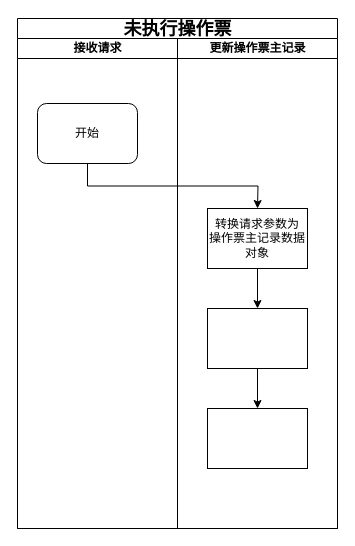
Image size: 355x546. Some labels were removed from this diagram. Each missing label, with the centre of its shape:
成功返回: the point at 257,438
更新 操作票主记录: the point at 257,338
